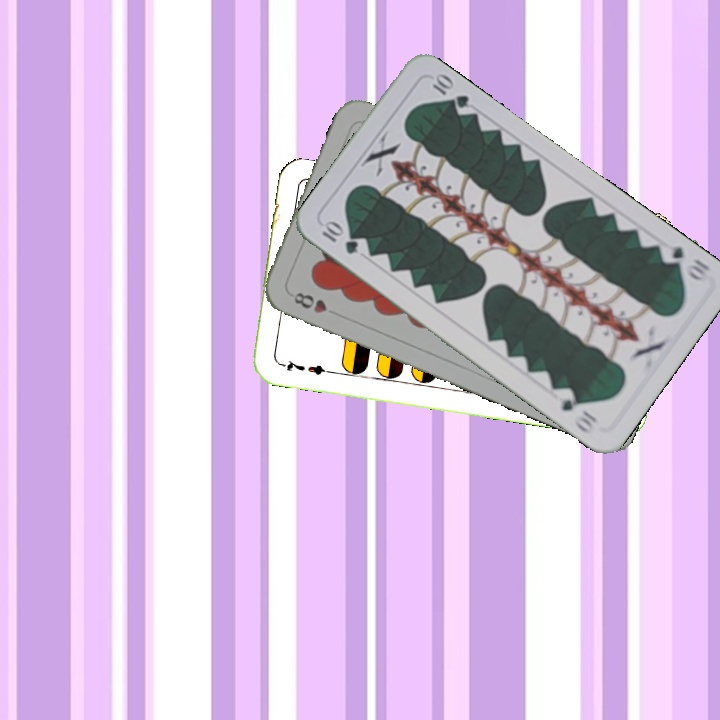E7: (275, 356, 334, 378)
G10: (656, 242, 713, 286), (317, 217, 361, 257)
H8: (289, 288, 342, 319)
